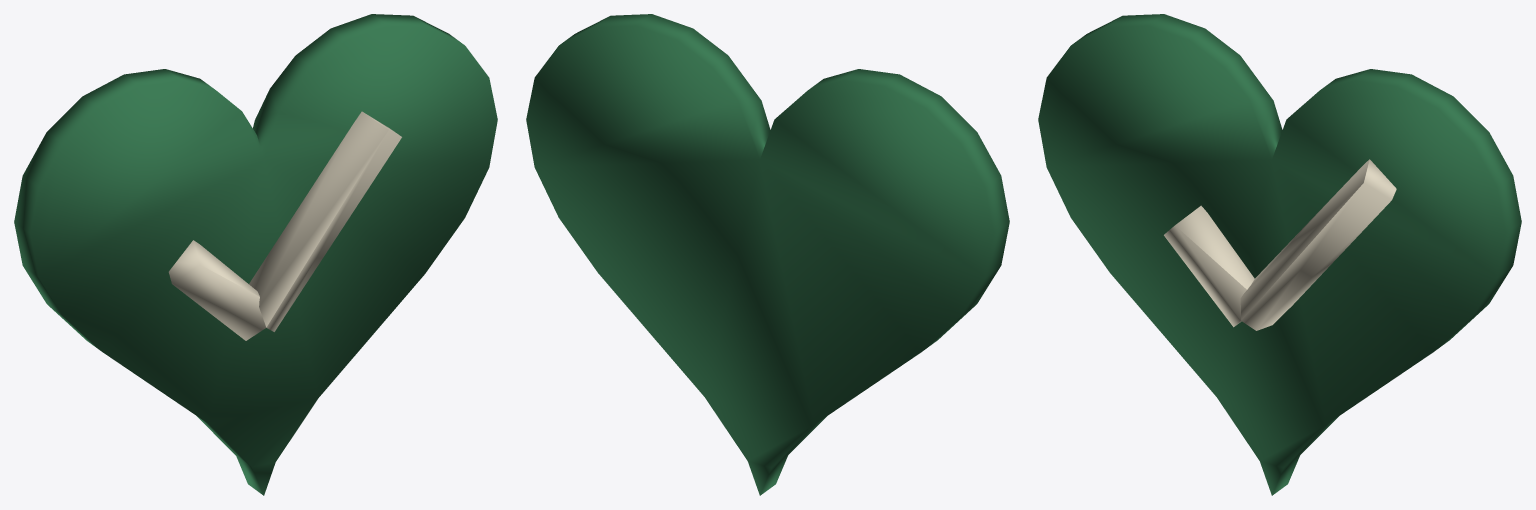
File: nhan_dung.glb
The picture shows the model from 3 angles, left to right: view 1: azimuth 30°, elevation 25°; view 2: azimuth 150°, elevation 25°; view 3: azimuth 330°, elevation 25°; orthographic projection.
Visible parts, largest first — view 1: nhan_dung; view 2: nhan_dung; view 3: nhan_dung.
Part boxes in pixels (x1,y1,x2,y2): nhan_dung: [14, 14, 497, 495]; nhan_dung: [526, 14, 1009, 495]; nhan_dung: [1038, 14, 1521, 495].
Size of the model in its own units: 0.0658 by 0.0592 by 0.00798.
